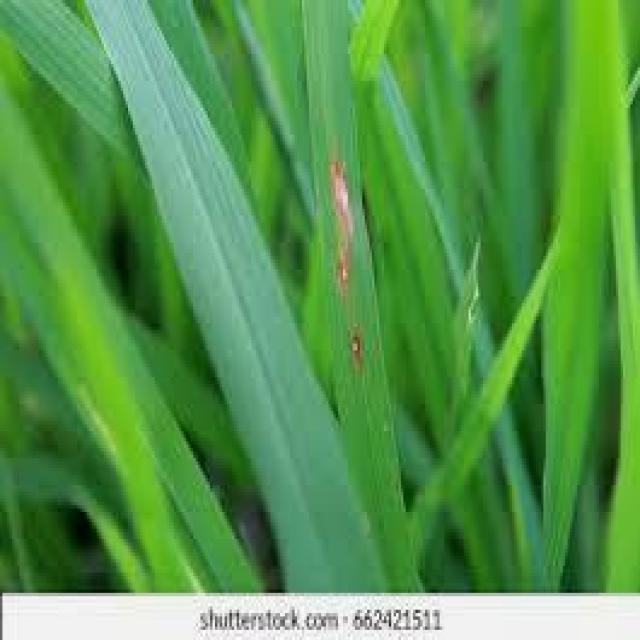Leaf_Blast: (324, 135, 355, 283), (340, 303, 370, 371)
